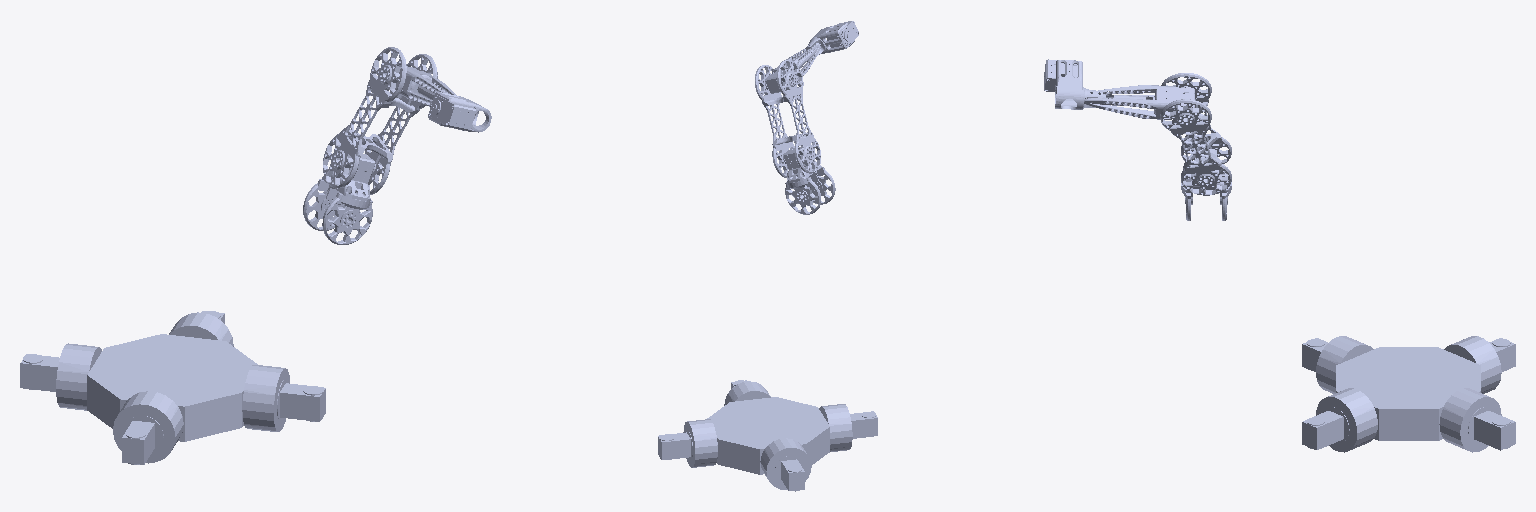
The robot description file, URDF, robot "wwww_urdf":
<?xml version="1.0" encoding="utf-8"?>
<!-- This URDF was automatically created by SolidWorks to URDF Exporter! Originally created by [author] ([email redacted]) 
     Commit Version: 1.6.0-4-g7f85cfe  Build Version: 1.6.7995.38578
     For more information, please see http://wiki.ros.org/sw_urdf_exporter -->
<robot
  name="wwww_urdf">
  <link
    name="base_link">
    <inertial>
      <origin
        xyz="0.14217 0.17203 0.27483"
        rpy="0 0 0" />
      <mass
        value="1.8502" />
      <inertia
        ixx="0.0021622"
        ixy="-4.6497E-12"
        ixz="2.6583E-09"
        iyy="0.0021628"
        iyz="-6.4325E-09"
        izz="0.0031349" />
    </inertial>
    <visual>
      <origin
        xyz="0 0 0"
        rpy="0 0 0" />
      <geometry>
        <mesh
          filename="package://wwww_urdf/meshes/base_link.STL" />
      </geometry>
      <material
        name="">
        <color
          rgba="0.79216 0.81961 0.93333 1" />
      </material>
    </visual>
    <collision>
      <origin
        xyz="0 0 0"
        rpy="0 0 0" />
      <geometry>
        <mesh
          filename="package://wwww_urdf/meshes/base_link.STL" />
      </geometry>
    </collision>
  </link>
  <link
    name="Leg1_Coxa">
    <inertial>
      <origin
        xyz="0.029251 -0.00033242 0.035561"
        rpy="0 0 0" />
      <mass
        value="0.10502" />
      <inertia
        ixx="5.0395E-05"
        ixy="1.3468E-09"
        ixz="8.0078E-08"
        iyy="5.7752E-05"
        iyz="4.2049E-10"
        izz="3.5542E-05" />
    </inertial>
    <visual>
      <origin
        xyz="0 0 0"
        rpy="0 0 0" />
      <geometry>
        <mesh
          filename="package://wwww_urdf/meshes/Leg1_Coxa.STL" />
      </geometry>
      <material
        name="">
        <color
          rgba="0.79216 0.81961 0.93333 1" />
      </material>
    </visual>
    <collision>
      <origin
        xyz="0 0 0"
        rpy="0 0 0" />
      <geometry>
        <mesh
          filename="package://wwww_urdf/meshes/Leg1_Coxa.STL" />
      </geometry>
    </collision>
  </link>
  <joint
    name="Leg1_joint1"
    type="revolute">
    <origin
      xyz="0.075436 -0.24008 0.33384"
      rpy="1.56 -1.1089 0.012099" />
    <parent
      link="base_link" />
    <child
      link="Leg1_Coxa" />
    <axis
      xyz="0.0053918 0 -0.99999" />
    <limit
      lower="0"
      upper="0"
      effort="0"
      velocity="6.387" />
  </joint>
  <link
    name="Leg1_Femur">
    <inertial>
      <origin
        xyz="-0.05592 0.0006271 -0.032144"
        rpy="0 0 0" />
      <mass
        value="0.094729" />
      <inertia
        ixx="6.9097E-05"
        ixy="-8.1639E-10"
        ixz="-5.3933E-06"
        iyy="5.7513E-05"
        iyz="-4.6925E-10"
        izz="7.5379E-05" />
    </inertial>
    <visual>
      <origin
        xyz="0 0 0"
        rpy="0 0 0" />
      <geometry>
        <mesh
          filename="package://wwww_urdf/meshes/Leg1_Femur.STL" />
      </geometry>
      <material
        name="">
        <color
          rgba="0.79216 0.81961 0.93333 1" />
      </material>
    </visual>
    <collision>
      <origin
        xyz="0 0 0"
        rpy="0 0 0" />
      <geometry>
        <mesh
          filename="package://wwww_urdf/meshes/Leg1_Femur.STL" />
      </geometry>
    </collision>
  </link>
  <joint
    name="Leg1_joint2"
    type="revolute">
    <origin
      xyz="0.064357 0 0.035898"
      rpy="0 0.6929 -3.1416" />
    <parent
      link="Leg1_Coxa" />
    <child
      link="Leg1_Femur" />
    <axis
      xyz="0 1 0" />
    <limit
      lower="0"
      upper="0"
      effort="0"
      velocity="6.387" />
  </joint>
  <link
    name="Leg1_Tibia">
    <inertial>
      <origin
        xyz="-3.7858E-07 0.01266 0.096055"
        rpy="0 0 0" />
      <mass
        value="0.14511" />
      <inertia
        ixx="7.6445E-05"
        ixy="8.5435E-10"
        ixz="5.8161E-10"
        iyy="7.5405E-05"
        iyz="-9.6809E-07"
        izz="2.6542E-05" />
    </inertial>
    <visual>
      <origin
        xyz="0 0 0"
        rpy="0 0 0" />
      <geometry>
        <mesh
          filename="package://wwww_urdf/meshes/Leg1_Tibia.STL" />
      </geometry>
      <material
        name="">
        <color
          rgba="0.79216 0.81961 0.93333 1" />
      </material>
    </visual>
    <collision>
      <origin
        xyz="0 0 0"
        rpy="0 0 0" />
      <geometry>
        <mesh
          filename="package://wwww_urdf/meshes/Leg1_Tibia.STL" />
      </geometry>
    </collision>
  </link>
  <joint
    name="Leg1_joint3"
    type="revolute">
    <origin
      xyz="-0.11184 0 -0.064289"
      rpy="0 0.77158 3.1416" />
    <parent
      link="Leg1_Femur" />
    <child
      link="Leg1_Tibia" />
    <axis
      xyz="0 1 0" />
    <limit
      lower="0"
      upper="0"
      effort="0"
      velocity="6.387" />
  </joint>
  <link
    name="Leg1_Wheel">
    <inertial>
      <origin
        xyz="1.0949E-07 0.04477 -1.4969E-07"
        rpy="0 0 0" />
      <mass
        value="0.21062" />
      <inertia
        ixx="0.00034853"
        ixy="1.2204E-11"
        ixz="-2.3337E-09"
        iyy="0.00064443"
        iyz="1.7494E-12"
        izz="0.00034854" />
    </inertial>
    <visual>
      <origin
        xyz="0 0 0"
        rpy="0 0 0" />
      <geometry>
        <mesh
          filename="package://wwww_urdf/meshes/Leg1_Wheel.STL" />
      </geometry>
      <material
        name="">
        <color
          rgba="0.79216 0.81961 0.93333 1" />
      </material>
    </visual>
    <collision>
      <origin
        xyz="0 0 0"
        rpy="0 0 0" />
      <geometry>
        <mesh
          filename="package://wwww_urdf/meshes/Leg1_Wheel.STL" />
      </geometry>
    </collision>
  </link>
  <joint
    name="Leg1_joint4"
    type="continuous">
    <origin
      xyz="0 0 0.15718"
      rpy="-3.1416 0.19153 -3.1416" />
    <parent
      link="Leg1_Tibia" />
    <child
      link="Leg1_Wheel" />
    <axis
      xyz="0 1 0" />
    <limit
      effort="0"
      velocity="6.387" />
  </joint>
  <link
    name="leg2_coxa">
    <inertial>
      <origin
        xyz="0.029251 -0.00033242 0.035561"
        rpy="0 0 0" />
      <mass
        value="0.10502" />
      <inertia
        ixx="5.0395E-05"
        ixy="1.3471E-09"
        ixz="8.0078E-08"
        iyy="5.7752E-05"
        iyz="4.1974E-10"
        izz="3.5542E-05" />
    </inertial>
    <visual>
      <origin
        xyz="0 0 0"
        rpy="0 0 0" />
      <geometry>
        <mesh
          filename="package://wwww_urdf/meshes/leg2_coxa.STL" />
      </geometry>
      <material
        name="">
        <color
          rgba="0.79216 0.81961 0.93333 1" />
      </material>
    </visual>
    <collision>
      <origin
        xyz="0 0 0"
        rpy="0 0 0" />
      <geometry>
        <mesh
          filename="package://wwww_urdf/meshes/leg2_coxa.STL" />
      </geometry>
    </collision>
  </link>
  <joint
    name="leg2_joint1"
    type="revolute">
    <origin
      xyz="-0.019618 -0.24008 0.10529"
      rpy="-1.5834 1.1664 3.1279" />
    <parent
      link="base_link" />
    <child
      link="leg2_coxa" />
    <axis
      xyz="0.0053918 0 -0.99999" />
    <limit
      lower="0"
      upper="0"
      effort="0"
      velocity="6.387" />
  </joint>
  <link
    name="leg2_femur">
    <inertial>
      <origin
        xyz="-0.05592 0.0006271 -0.032144"
        rpy="0 0 0" />
      <mass
        value="0.094729" />
      <inertia
        ixx="6.9097E-05"
        ixy="-8.1609E-10"
        ixz="-5.3933E-06"
        iyy="5.7513E-05"
        iyz="-4.691E-10"
        izz="7.5379E-05" />
    </inertial>
    <visual>
      <origin
        xyz="0 0 0"
        rpy="0 0 0" />
      <geometry>
        <mesh
          filename="package://wwww_urdf/meshes/leg2_femur.STL" />
      </geometry>
      <material
        name="">
        <color
          rgba="0.79216 0.81961 0.93333 1" />
      </material>
    </visual>
    <collision>
      <origin
        xyz="0 0 0"
        rpy="0 0 0" />
      <geometry>
        <mesh
          filename="package://wwww_urdf/meshes/leg2_femur.STL" />
      </geometry>
    </collision>
  </link>
  <joint
    name="leg2_joint2"
    type="revolute">
    <origin
      xyz="0.064357 0 0.035898"
      rpy="0 0.49856 -3.1416" />
    <parent
      link="leg2_coxa" />
    <child
      link="leg2_femur" />
    <axis
      xyz="0 1 0" />
    <limit
      lower="0"
      upper="0"
      effort="0"
      velocity="6.387" />
  </joint>
  <link
    name="leg2_tibia">
    <inertial>
      <origin
        xyz="-2.78080573616613E-07 -0.0146865130682264 0.0960374243230176"
        rpy="0 0 0" />
      <mass
        value="0.14510633661613" />
      <inertia
        ixx="7.64420774286525E-05"
        ixy="8.85209131172503E-10"
        ixz="5.13427213827048E-10"
        iyy="7.54022852996233E-05"
        iyz="9.70624434444233E-07"
        izz="2.65420037717423E-05" />
    </inertial>
    <visual>
      <origin
        xyz="0 0 0"
        rpy="0 0 0" />
      <geometry>
        <mesh
          filename="package://wwww_urdf/meshes/leg2_tibia.STL" />
      </geometry>
      <material
        name="">
        <color
          rgba="0.792156862745098 0.819607843137255 0.933333333333333 1" />
      </material>
    </visual>
    <collision>
      <origin
        xyz="0 0 0"
        rpy="0 0 0" />
      <geometry>
        <mesh
          filename="package://wwww_urdf/meshes/leg2_tibia.STL" />
      </geometry>
    </collision>
  </link>
  <joint
    name="leg2_joint3"
    type="revolute">
    <origin
      xyz="-0.11184 0 -0.064289"
      rpy="0 0.72017 3.1416" />
    <parent
      link="leg2_femur" />
    <child
      link="leg2_tibia" />
    <axis
      xyz="0 1 0" />
    <limit
      lower="0"
      upper="0"
      effort="0"
      velocity="6.387" />
  </joint>
  <link
    name="leg2_wheel">
    <inertial>
      <origin
        xyz="1.09488726252049E-07 0.0474753205951267 -1.49688081263477E-07"
        rpy="0 0 0" />
      <mass
        value="0.210619497382952" />
      <inertia
        ixx="0.000348533984217759"
        ixy="1.22043417573853E-11"
        ixz="-2.333744828402E-09"
        iyy="0.000644434260231493"
        iyz="1.74937015496473E-12"
        izz="0.000348535390625117" />
    </inertial>
    <visual>
      <origin
        xyz="0 0 0"
        rpy="0 0 0" />
      <geometry>
        <mesh
          filename="package://wwww_urdf/meshes/leg2_wheel.STL" />
      </geometry>
      <material
        name="">
        <color
          rgba="0.792156862745098 0.819607843137255 0.933333333333333 1" />
      </material>
    </visual>
    <collision>
      <origin
        xyz="0 0 0"
        rpy="0 0 0" />
      <geometry>
        <mesh
          filename="package://wwww_urdf/meshes/leg2_wheel.STL" />
      </geometry>
    </collision>
  </link>
  <joint
    name="leg2_joint4"
    type="continuous">
    <origin
      xyz="0 0 0.15714"
      rpy="0 -0.041232 -3.1416" />
    <parent
      link="leg2_tibia" />
    <child
      link="leg2_wheel" />
    <axis
      xyz="0 1 0" />
    <limit
      effort="0"
      velocity="6.387" />
  </joint>
  <link
    name="leg3_coxa">
    <inertial>
      <origin
        xyz="0.0292513996308771 -0.0003324231188013 0.0355608456173721"
        rpy="0 0 0" />
      <mass
        value="0.105020719575034" />
      <inertia
        ixx="5.03953325193394E-05"
        ixy="1.34723899429193E-09"
        ixz="8.00773744363248E-08"
        iyy="5.77523241600365E-05"
        iyz="4.16781309827059E-10"
        izz="3.55419030510688E-05" />
    </inertial>
    <visual>
      <origin
        xyz="0 0 0"
        rpy="0 0 0" />
      <geometry>
        <mesh
          filename="package://wwww_urdf/meshes/leg3_coxa.STL" />
      </geometry>
      <material
        name="">
        <color
          rgba="0.792156862745098 0.819607843137255 0.933333333333333 1" />
      </material>
    </visual>
    <collision>
      <origin
        xyz="0 0 0"
        rpy="0 0 0" />
      <geometry>
        <mesh
          filename="package://wwww_urdf/meshes/leg3_coxa.STL" />
      </geometry>
    </collision>
  </link>
  <joint
    name="leg3_joint1"
    type="revolute">
    <origin
      xyz="0.20894 -0.24008 0.010233"
      rpy="-1.5917 1.3178 3.1201" />
    <parent
      link="base_link" />
    <child
      link="leg3_coxa" />
    <axis
      xyz="0.0053918 0 -0.99999" />
    <limit
      lower="0"
      upper="0"
      effort="0"
      velocity="6.387" />
  </joint>
  <link
    name="leg3_femur">
    <inertial>
      <origin
        xyz="-0.055919550106895 0.000627100491342014 -0.0321442665488382"
        rpy="0 0 0" />
      <mass
        value="0.0947288668425732" />
      <inertia
        ixx="6.90968708827936E-05"
        ixy="-8.16567904013499E-10"
        ixz="-5.3933262144797E-06"
        iyy="5.75125911480373E-05"
        iyz="-4.69281960965394E-10"
        izz="7.53790877435464E-05" />
    </inertial>
    <visual>
      <origin
        xyz="0 0 0"
        rpy="0 0 0" />
      <geometry>
        <mesh
          filename="package://wwww_urdf/meshes/leg3_femur.STL" />
      </geometry>
      <material
        name="">
        <color
          rgba="0.792156862745098 0.819607843137255 0.933333333333333 1" />
      </material>
    </visual>
    <collision>
      <origin
        xyz="0 0 0"
        rpy="0 0 0" />
      <geometry>
        <mesh
          filename="package://wwww_urdf/meshes/leg3_femur.STL" />
      </geometry>
    </collision>
  </link>
  <joint
    name="leg3_joint2"
    type="revolute">
    <origin
      xyz="0.064357 0 0.035898"
      rpy="0 0.71604 -3.1416" />
    <parent
      link="leg3_coxa" />
    <child
      link="leg3_femur" />
    <axis
      xyz="0 1 0" />
    <limit
      lower="0"
      upper="0"
      effort="0"
      velocity="6.387" />
  </joint>
  <link
    name="leg3_tibia">
    <inertial>
      <origin
        xyz="-3.66491048259254E-07 0.0126604923617305 0.0960551852243208"
        rpy="0 0 0" />
      <mass
        value="0.145106487814879" />
      <inertia
        ixx="7.64422029785046E-05"
        ixy="8.15688244073343E-10"
        ixz="2.90678799955368E-10"
        iyy="7.54022430364416E-05"
        iyz="-9.6814971816964E-07"
        izz="2.6542094173945E-05" />
    </inertial>
    <visual>
      <origin
        xyz="0 0 0"
        rpy="0 0 0" />
      <geometry>
        <mesh
          filename="package://wwww_urdf/meshes/leg3_tibia.STL" />
      </geometry>
      <material
        name="">
        <color
          rgba="0.792156862745098 0.819607843137255 0.933333333333333 1" />
      </material>
    </visual>
    <collision>
      <origin
        xyz="0 0 0"
        rpy="0 0 0" />
      <geometry>
        <mesh
          filename="package://wwww_urdf/meshes/leg3_tibia.STL" />
      </geometry>
    </collision>
  </link>
  <joint
    name="leg3_joint3"
    type="revolute">
    <origin
      xyz="-0.11184 0 -0.064289"
      rpy="0 0.89221 3.1416" />
    <parent
      link="leg3_femur" />
    <child
      link="leg3_tibia" />
    <axis
      xyz="0 1 0" />
    <limit
      lower="0"
      upper="0"
      effort="0"
      velocity="6.387" />
  </joint>
  <link
    name="leg3_wheel">
    <inertial>
      <origin
        xyz="1.09488728791685E-07 0.0199225302720451 -1.49688085537836E-07"
        rpy="0 0 0" />
      <mass
        value="0.210619497382952" />
      <inertia
        ixx="0.000348533984217774"
        ixy="1.22043234261796E-11"
        ixz="-2.33374482142245E-09"
        iyy="0.00064443426023149"
        iyz="1.74931389701502E-12"
        izz="0.000348535390625134" />
    </inertial>
    <visual>
      <origin
        xyz="0 0 0"
        rpy="0 0 0" />
      <geometry>
        <mesh
          filename="package://wwww_urdf/meshes/leg3_wheel.STL" />
      </geometry>
      <material
        name="">
        <color
          rgba="0.792156862745098 0.819607843137255 0.933333333333333 1" />
      </material>
    </visual>
    <collision>
      <origin
        xyz="0 0 0"
        rpy="0 0 0" />
      <geometry>
        <mesh
          filename="package://wwww_urdf/meshes/leg3_wheel.STL" />
      </geometry>
    </collision>
  </link>
  <joint
    name="leg3_joint4"
    type="continuous">
    <origin
      xyz="0 0.024847 0.15718"
      rpy="0 0.0023316 0" />
    <parent
      link="leg3_tibia" />
    <child
      link="leg3_wheel" />
    <axis
      xyz="0 1 0" />
    <limit
      effort="0"
      velocity="6.387" />
  </joint>
  <link
    name="leg4_coxa">
    <inertial>
      <origin
        xyz="0.0292513977217899 -0.00033242200338765 0.0355608436629877"
        rpy="0 0 0" />
      <mass
        value="0.105020717573293" />
      <inertia
        ixx="5.0395328718975E-05"
        ixy="1.34597484588258E-09"
        ixz="8.00782900202859E-08"
        iyy="5.77523154211785E-05"
        iyz="4.21883189403258E-10"
        izz="3.55419003478377E-05" />
    </inertial>
    <visual>
      <origin
        xyz="0 0 0"
        rpy="0 0 0" />
      <geometry>
        <mesh
          filename="package://wwww_urdf/meshes/leg4_coxa.STL" />
      </geometry>
      <material
        name="">
        <color
          rgba="0.792156862745098 0.819607843137255 0.933333333333333 1" />
      </material>
    </visual>
    <collision>
      <origin
        xyz="0 0 0"
        rpy="0 0 0" />
      <geometry>
        <mesh
          filename="package://wwww_urdf/meshes/leg4_coxa.STL" />
      </geometry>
    </collision>
  </link>
  <joint
    name="leg4_joint1"
    type="revolute">
    <origin
      xyz="0.30399 -0.24008 0.23879"
      rpy="1.5631 -0.96174 0.0094248" />
    <parent
      link="base_link" />
    <child
      link="leg4_coxa" />
    <axis
      xyz="0.0053918 0 -0.99999" />
    <limit
      lower="0"
      upper="0"
      effort="0"
      velocity="6.387" />
  </joint>
  <link
    name="leg4_femur">
    <inertial>
      <origin
        xyz="-0.0559195496564505 0.000627100878783537 -0.0321442665639246"
        rpy="0 0 0" />
      <mass
        value="0.0947288614954202" />
      <inertia
        ixx="6.90968689878752E-05"
        ixy="-8.16753177157111E-10"
        ixz="-5.39332647724369E-06"
        iyy="5.75125911934856E-05"
        iyz="-4.69267039930771E-10"
        izz="7.53790877001172E-05" />
    </inertial>
    <visual>
      <origin
        xyz="0 0 0"
        rpy="0 0 0" />
      <geometry>
        <mesh
          filename="package://wwww_urdf/meshes/leg4_femur.STL" />
      </geometry>
      <material
        name="">
        <color
          rgba="0.792156862745098 0.819607843137255 0.933333333333333 1" />
      </material>
    </visual>
    <collision>
      <origin
        xyz="0 0 0"
        rpy="0 0 0" />
      <geometry>
        <mesh
          filename="package://wwww_urdf/meshes/leg4_femur.STL" />
      </geometry>
    </collision>
  </link>
  <joint
    name="leg4_joint2"
    type="revolute">
    <origin
      xyz="0.064357 0 0.035898"
      rpy="0 0.8434 3.1416" />
    <parent
      link="leg4_coxa" />
    <child
      link="leg4_femur" />
    <axis
      xyz="0 1 0" />
    <limit
      lower="0"
      upper="0"
      effort="0"
      velocity="6.387" />
  </joint>
  <link
    name="leg4_tibia">
    <inertial>
      <origin
        xyz="-3.10726320673638E-07 -0.0146863991543403 0.0960377287785421"
        rpy="0 0 0" />
      <mass
        value="0.145107716079444" />
      <inertia
        ixx="7.64450026319013E-05"
        ixy="8.28881132888596E-10"
        ixz="8.27958826362001E-10"
        iyy="7.54051367805572E-05"
        iyz="9.70826526337247E-07"
        izz="2.65421606834181E-05" />
    </inertial>
    <visual>
      <origin
        xyz="0 0 0"
        rpy="0 0 0" />
      <geometry>
        <mesh
          filename="package://wwww_urdf/meshes/leg4_tibia.STL" />
      </geometry>
      <material
        name="">
        <color
          rgba="0.792156862745098 0.819607843137255 0.933333333333333 1" />
      </material>
    </visual>
    <collision>
      <origin
        xyz="0 0 0"
        rpy="0 0 0" />
      <geometry>
        <mesh
          filename="package://wwww_urdf/meshes/leg4_tibia.STL" />
      </geometry>
    </collision>
  </link>
  <joint
    name="leg4_joint3"
    type="revolute">
    <origin
      xyz="-0.11184 0 -0.064289"
      rpy="0 0.91285 -3.1416" />
    <parent
      link="leg4_femur" />
    <child
      link="leg4_tibia" />
    <axis
      xyz="0 1 0" />
    <limit
      lower="0"
      upper="0"
      effort="0"
      velocity="6.387" />
  </joint>
  <link
    name="leg4_wheel">
    <inertial>
      <origin
        xyz="1.09488727528806E-07 0.0474753205951262 -1.4968808093041E-07"
        rpy="0 0 0" />
      <mass
        value="0.210619497382947" />
      <inertia
        ixx="0.000348533984217708"
        ixy="1.22043322734049E-11"
        ixz="-2.33374482343839E-09"
        iyy="0.00064443426023148"
        iyz="1.74936066019559E-12"
        izz="0.000348535390625061" />
    </inertial>
    <visual>
      <origin
        xyz="0 0 0"
        rpy="0 0 0" />
      <geometry>
        <mesh
          filename="package://wwww_urdf/meshes/leg4_wheel.STL" />
      </geometry>
      <material
        name="">
        <color
          rgba="0.792156862745098 0.819607843137255 0.933333333333333 1" />
      </material>
    </visual>
    <collision>
      <origin
        xyz="0 0 0"
        rpy="0 0 0" />
      <geometry>
        <mesh
          filename="package://wwww_urdf/meshes/leg4_wheel.STL" />
      </geometry>
    </collision>
  </link>
  <joint
    name="leg4_joint4"
    type="continuous">
    <origin
      xyz="0 0 0.15714"
      rpy="0 -0.052942 3.1416" />
    <parent
      link="leg4_tibia" />
    <child
      link="leg4_wheel" />
    <axis
      xyz="0 1 0" />
    <limit
      effort="0"
      velocity="6.387" />
  </joint>
</robot>

--- Render facts (derived) ---
3 views of the same robot in one strip: view 1: azimuth 30°, elevation 25°; view 2: azimuth 150°, elevation 25°; view 3: azimuth 270°, elevation 25° (orthographic).
Robot: wwww_urdf — 17 links, 16 joints (12 revolute, 4 continuous); root link base_link; default pose: all joints at 0.
Links seen in each view (by area): view 1: base_link, Leg1_Femur, Leg1_Coxa, Leg1_Tibia; view 2: base_link, Leg1_Femur, Leg1_Coxa, Leg1_Tibia; view 3: base_link, Leg1_Femur, Leg1_Tibia, Leg1_Coxa.
Link boxes in pixels (x1=…): base_link: x1=20, y1=311, x2=325, y2=464; Leg1_Femur: x1=323, y1=47, x2=437, y2=194; Leg1_Coxa: x1=303, y1=154, x2=375, y2=244; Leg1_Tibia: x1=395, y1=66, x2=491, y2=132; base_link: x1=658, y1=380, x2=877, y2=491; Leg1_Femur: x1=755, y1=60, x2=820, y2=177; Leg1_Coxa: x1=783, y1=147, x2=835, y2=214; Leg1_Tibia: x1=765, y1=21, x2=858, y2=93; base_link: x1=1302, y1=336, x2=1515, y2=452; Leg1_Femur: x1=1160, y1=73, x2=1231, y2=195; Leg1_Tibia: x1=1044, y1=59, x2=1194, y2=119; Leg1_Coxa: x1=1181, y1=149, x2=1231, y2=220.
Bounding box of the posed robot: 0.3371 × 0.6413 × 0.5979 m (x, y, z).
4 mesh visuals loaded from 17 distinct referenced files (4 binary STL); not drawn: 13 (reference not matched to a file when rendering).